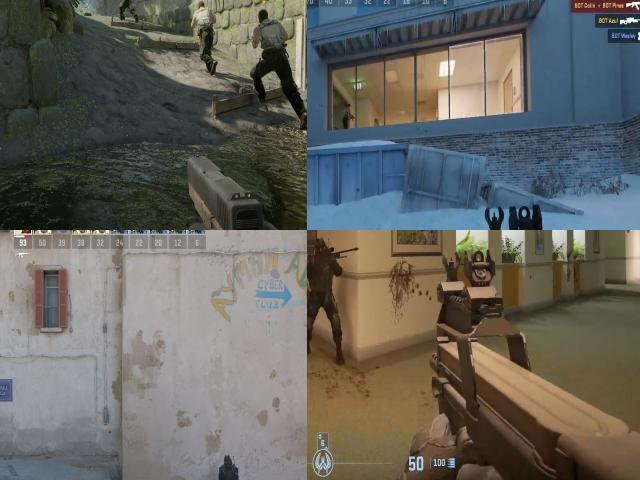CT: (307, 233, 340, 304), (220, 455, 238, 480)
CT-Head: (312, 236, 330, 258), (225, 455, 232, 467)
T: (251, 0, 288, 119), (191, 0, 215, 66), (341, 101, 353, 129), (119, 0, 132, 18)
T-Head: (255, 2, 270, 26), (197, 0, 206, 10)
